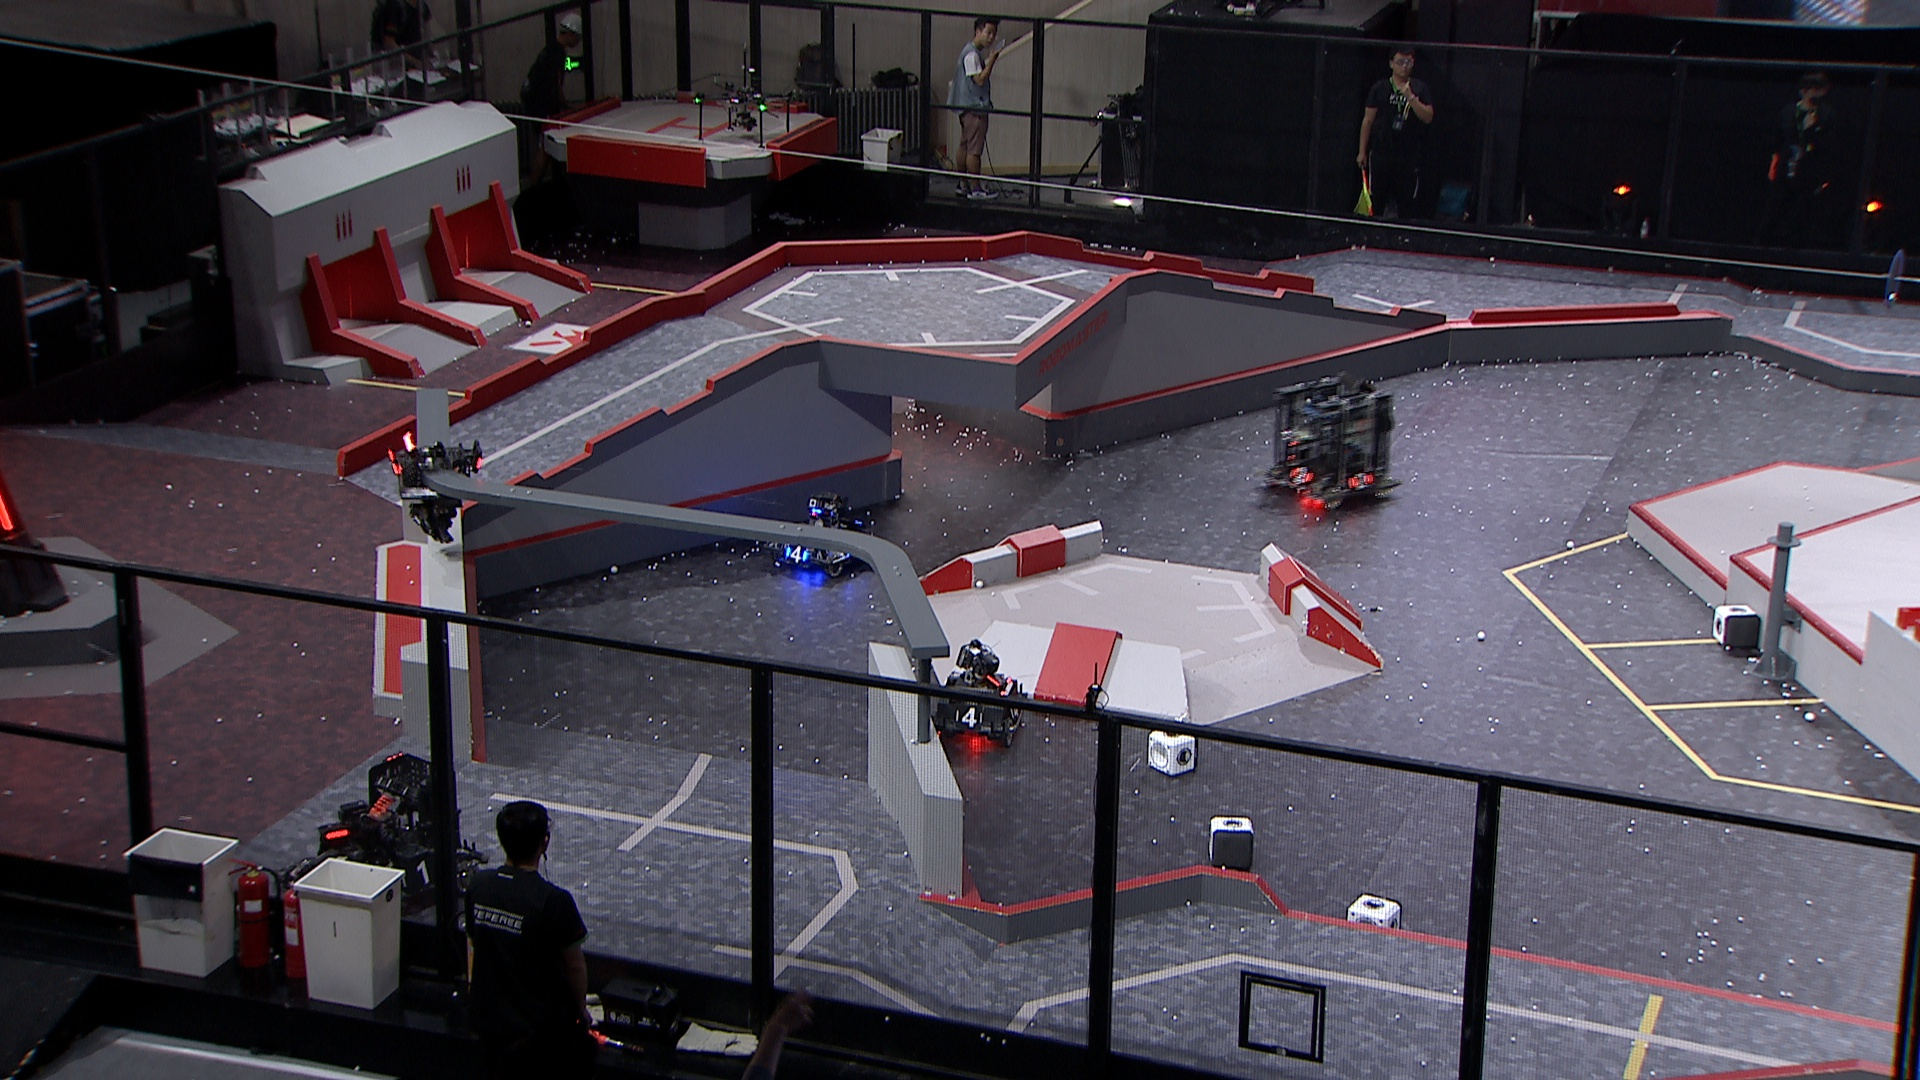armor: (398, 860, 434, 891), (385, 447, 406, 479), (1348, 469, 1375, 493), (953, 707, 984, 728), (785, 545, 811, 564), (1290, 465, 1313, 487)
car: (282, 749, 495, 924), (1257, 371, 1400, 510), (928, 641, 1029, 750), (770, 489, 880, 576)
watcher: (384, 433, 487, 546)
